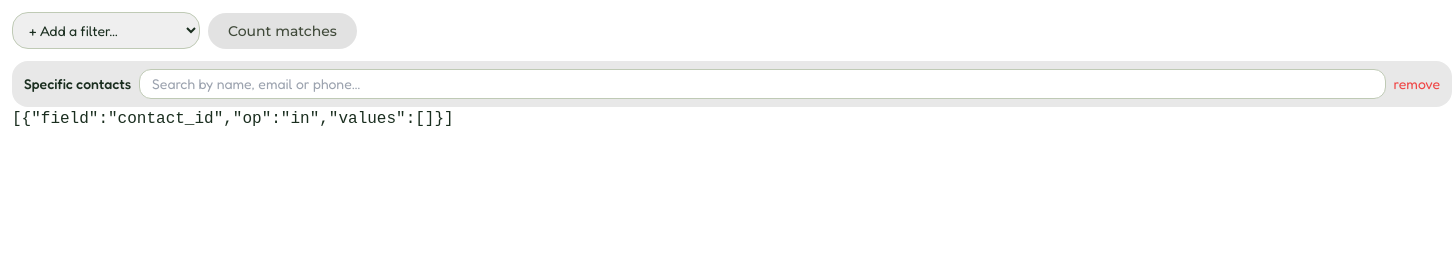
SegmentBuilder contact picker › whatsapp channel flags only missing phone
Type "a" into the search field with placeholder "Search by name, email or phone…" at (762, 84), box [139,69,1386,99]
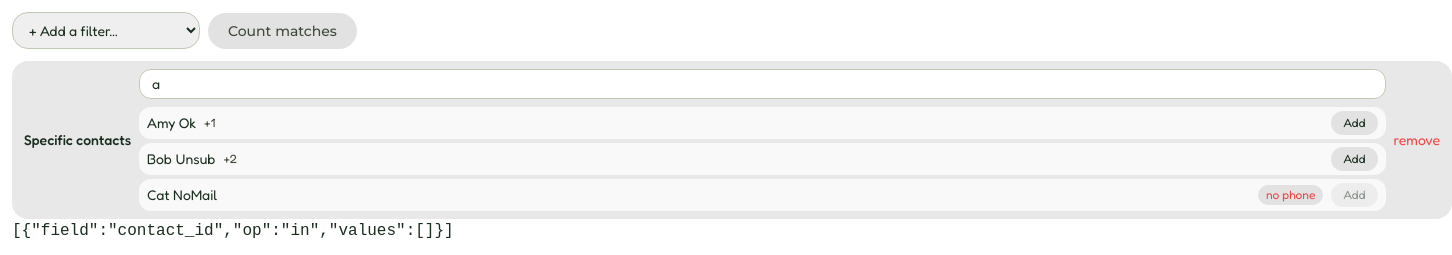
Check: the text "Amy Ok" is shown, box [147,113,196,133]
Check: the text "no phone" is shown, box [1258,185,1324,205]
